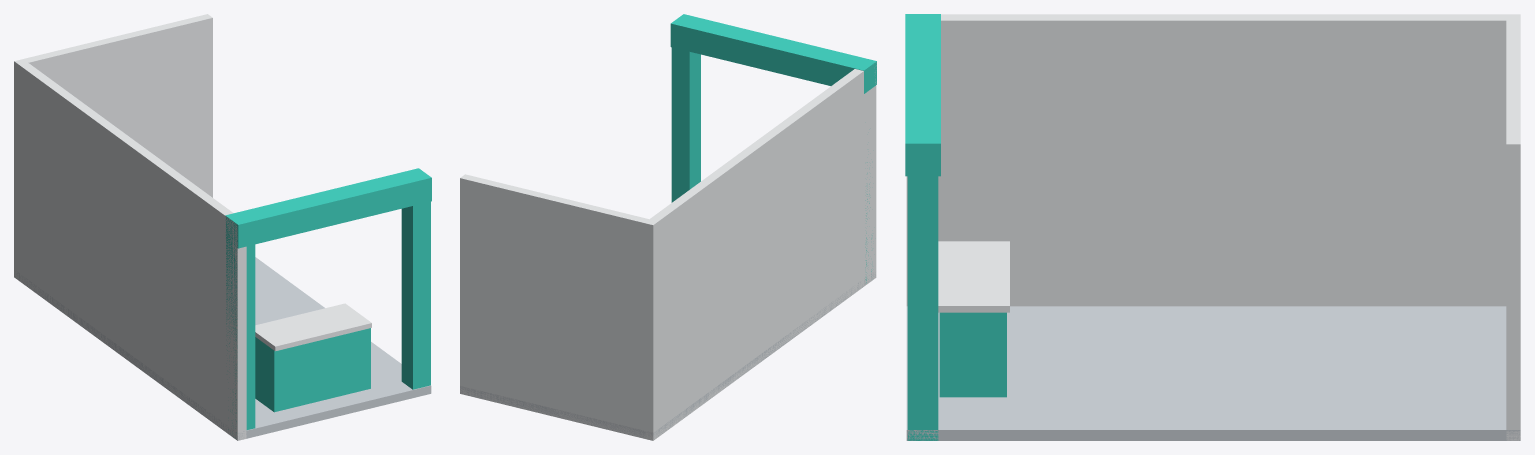
3 renders of one model, left to right at view 1: azimuth 30°, elevation 25°; view 2: azimuth 150°, elevation 25°; view 3: azimuth 270°, elevation 25°, orthographic. The views are drawn at different scales.
Parts seen in each view (by area): view 1: Exhibition Booth Concept; view 2: Exhibition Booth Concept; view 3: Exhibition Booth Concept.
Boxes of the visible parts, box(x1,y1,x2,y2) form: Exhibition Booth Concept: box(14, 14, 431, 440); Exhibition Booth Concept: box(460, 14, 876, 440); Exhibition Booth Concept: box(905, 14, 1520, 440).
Bounding box in the file's own units: 3 × 3.2 × 6.02.
